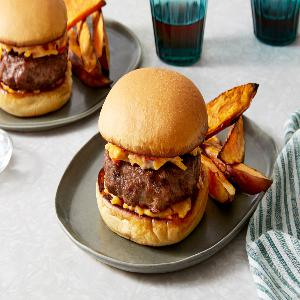cheeseburger_475cal: (103, 67, 217, 243)
